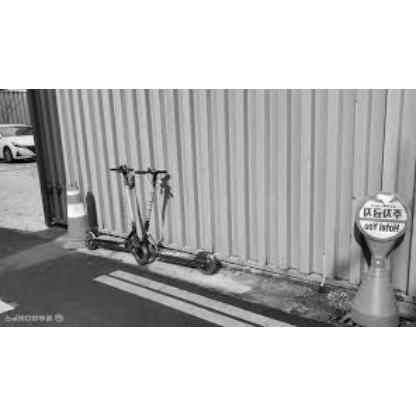bike: (85, 164, 222, 276), (85, 164, 173, 267)
car: (0, 123, 37, 163)
